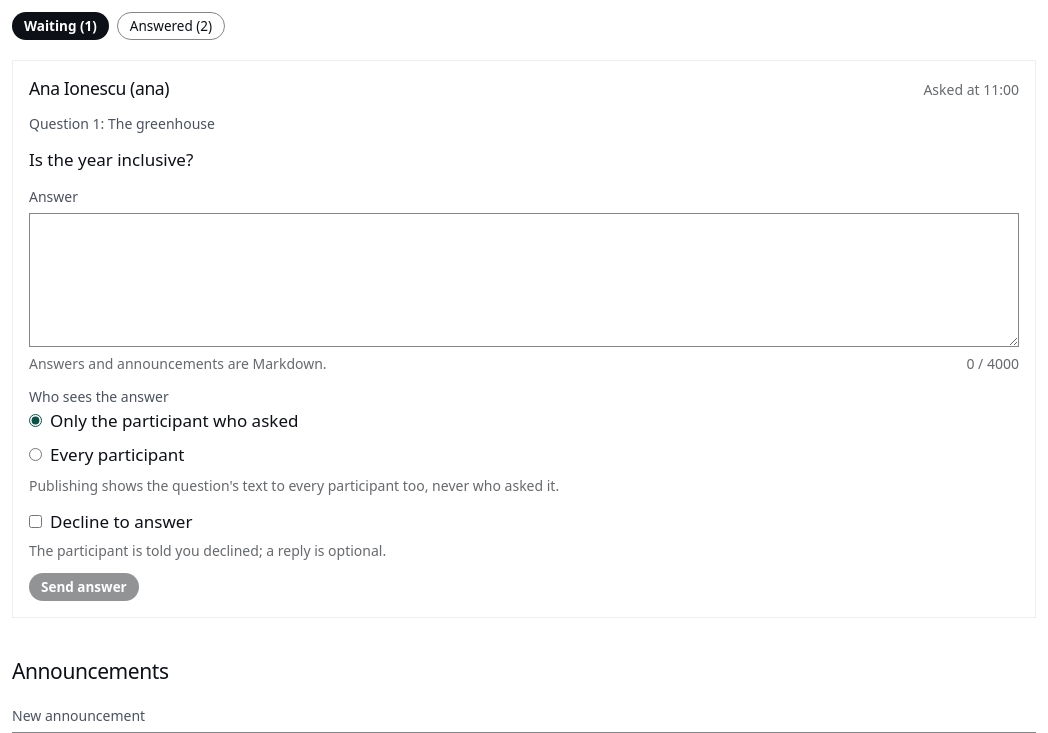
Test: the staff desk › shows a refusal in words and keeps the answer typed
Step 1. Type "Yes." into the text box labelled "Answer" → (524, 280), box [29,213,1019,347]
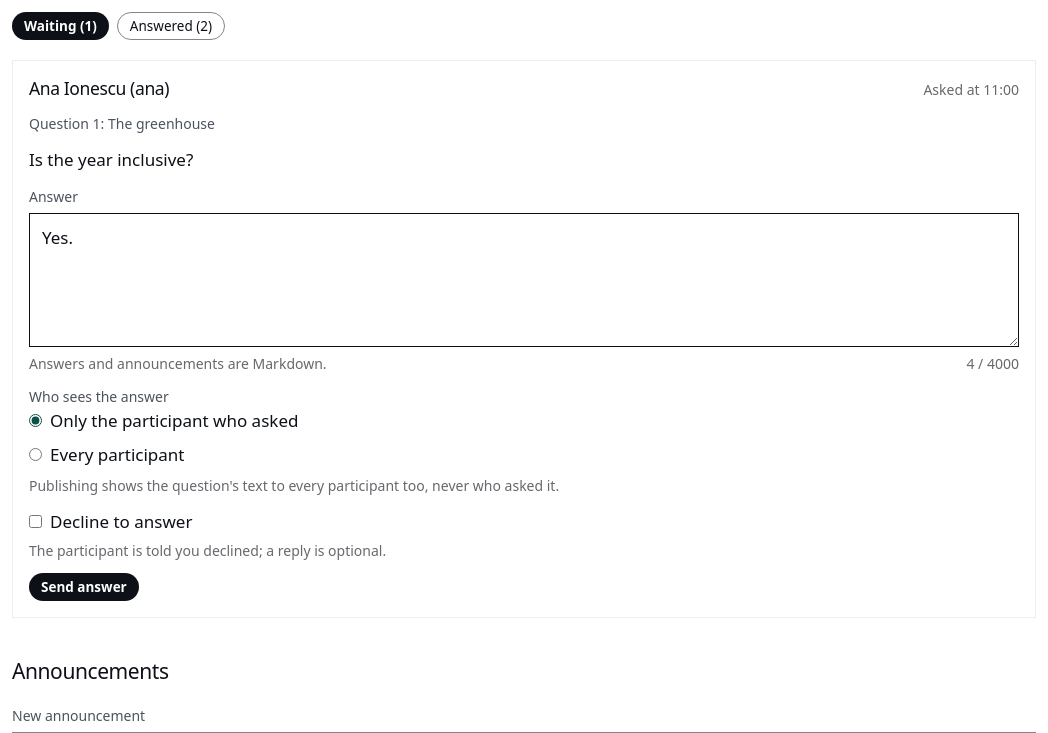
Step 2. Click the button "Send answer" → (84, 587), box [29,573,139,601]
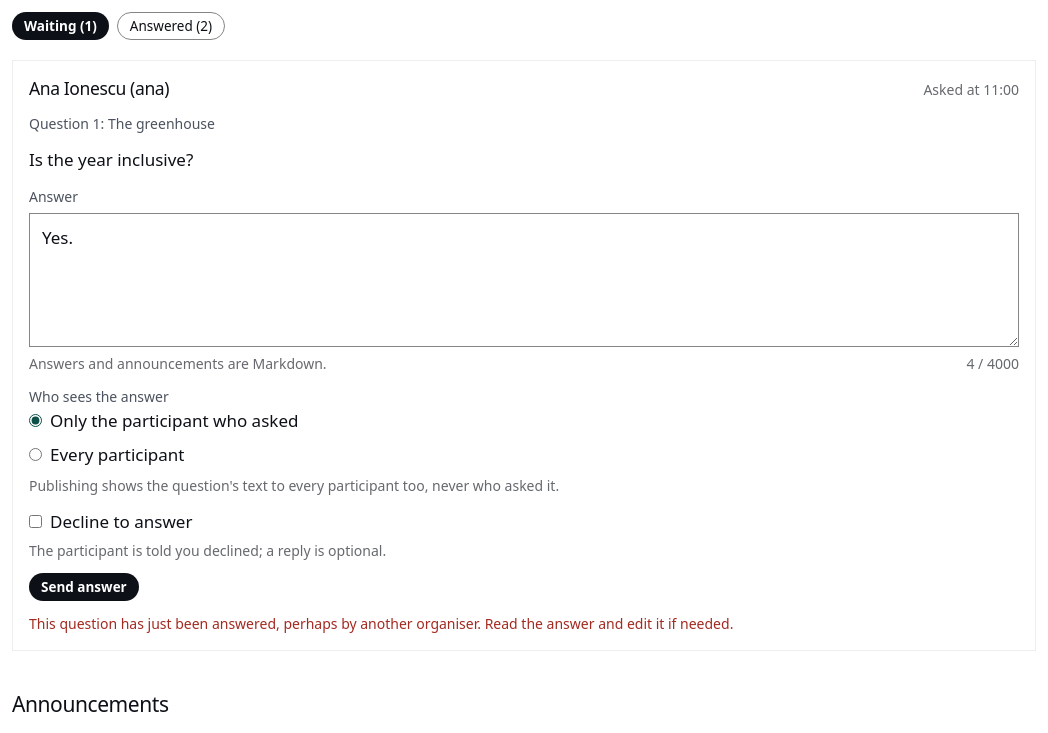
Result: the message shows "This question has just been answered, perhaps by another organiser. Read the answer and edit it if needed." at [29,614,733,633]
